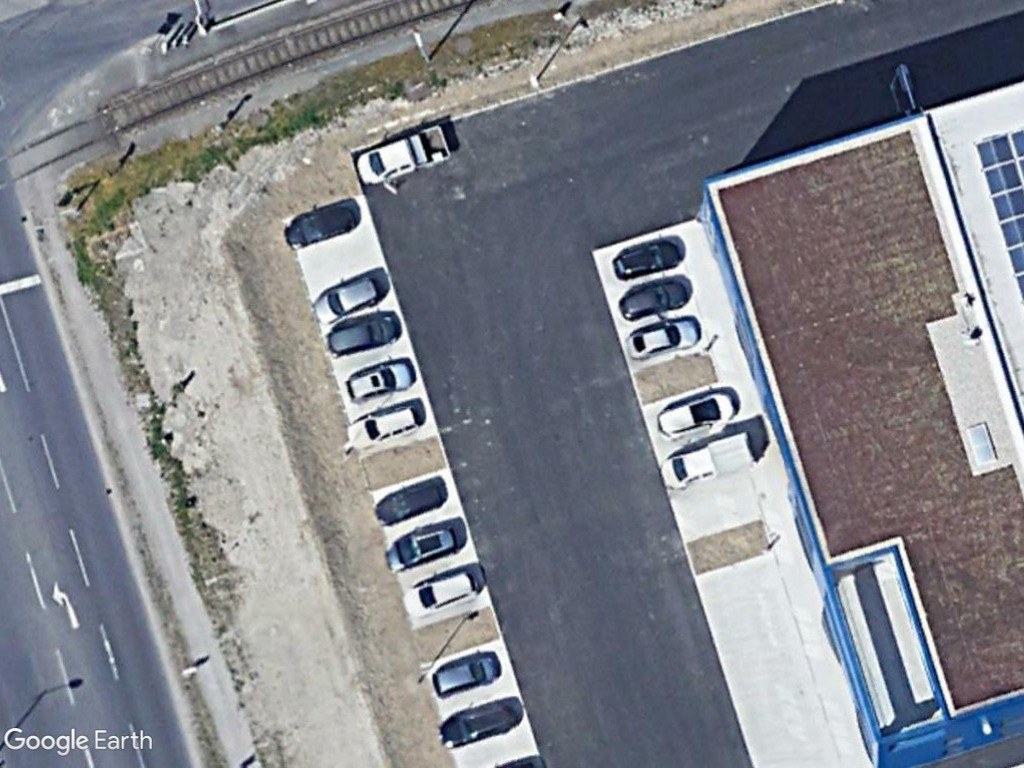car: (650, 389, 740, 441), (435, 699, 520, 753), (400, 563, 479, 619), (344, 398, 424, 450), (281, 200, 359, 253), (381, 522, 459, 575), (427, 650, 505, 701), (371, 480, 448, 531), (323, 311, 402, 360), (311, 272, 384, 325), (623, 317, 702, 362), (609, 239, 686, 284), (616, 276, 691, 322), (342, 358, 418, 402)
other: (354, 124, 455, 187), (656, 430, 752, 494)
